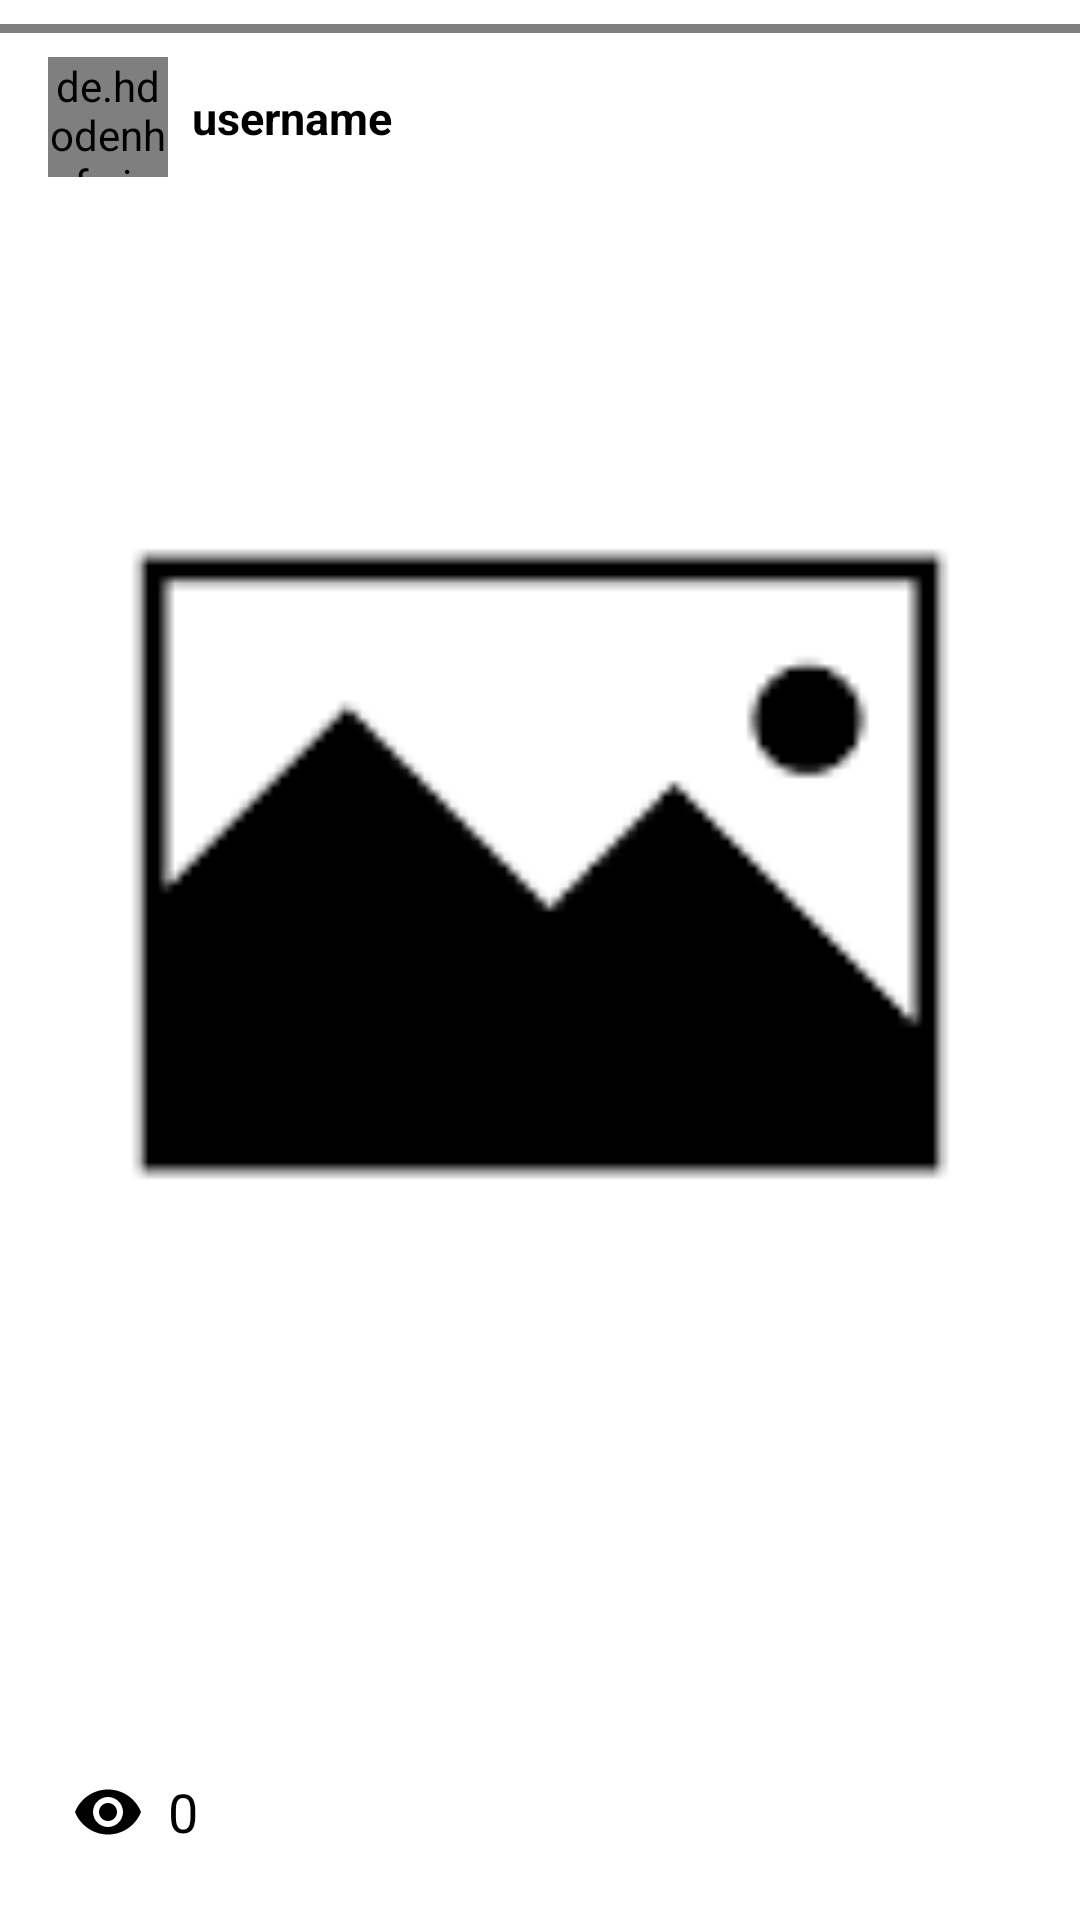

Screen size 1080 x 1920. Icon name, then its center in pixels as [x,y]:
views: [108,1812]
